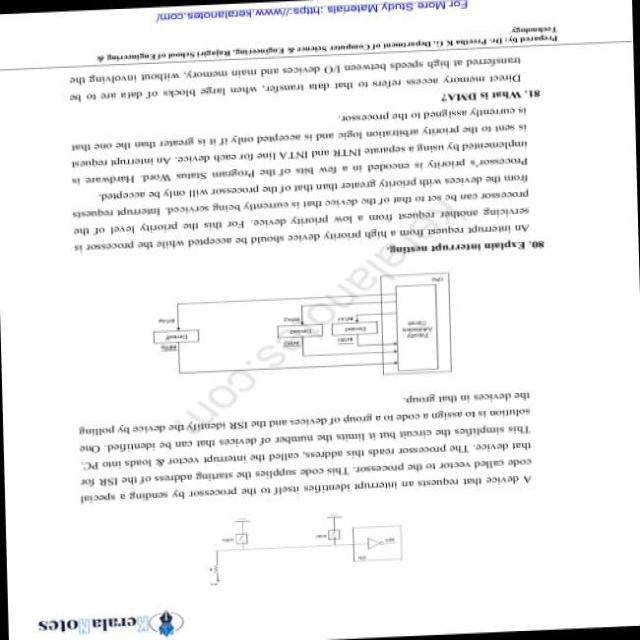Figure Detection - v3 Dataset Version2: (143, 261, 462, 397), (188, 501, 421, 607)
